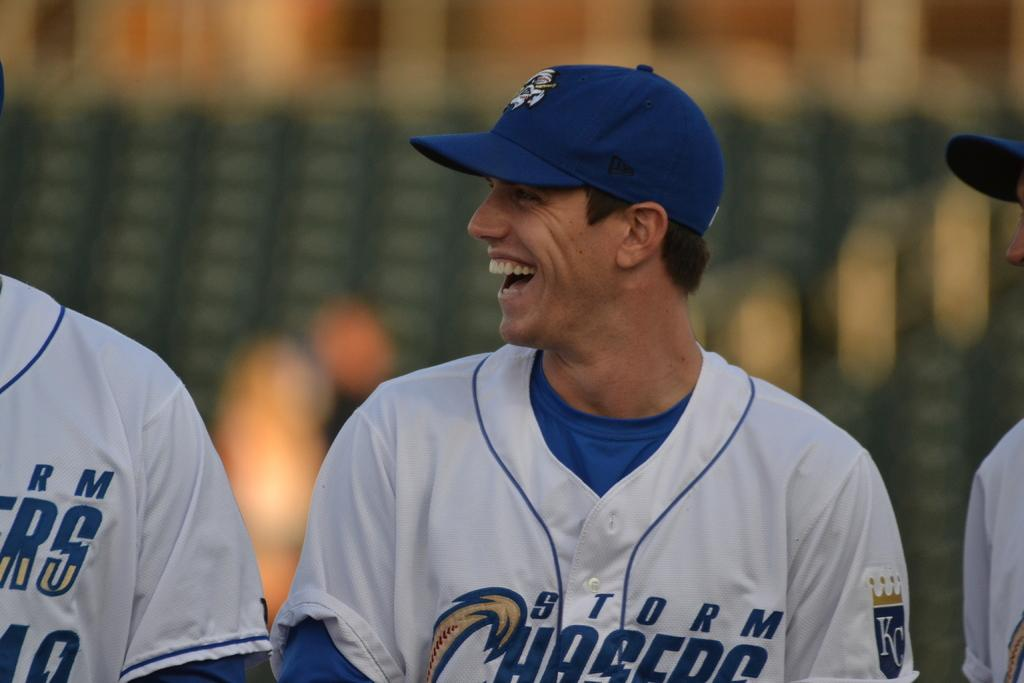Hat: (409, 61, 726, 240), (940, 133, 1024, 203)
